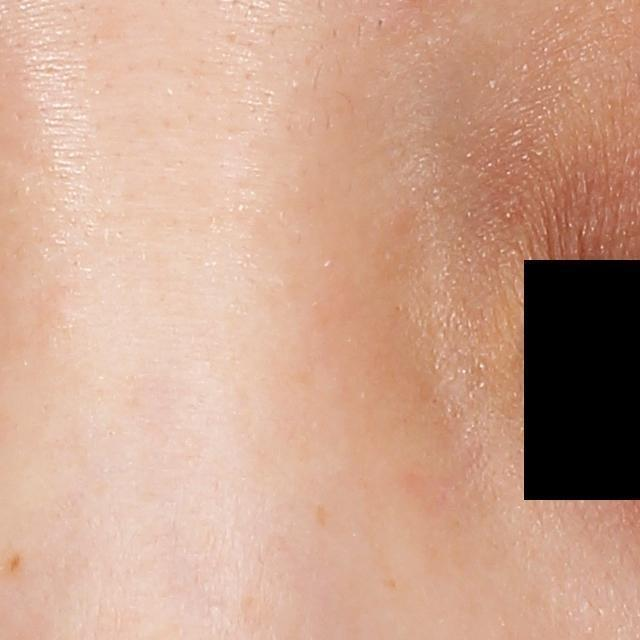melasma: (313, 501, 329, 530)
